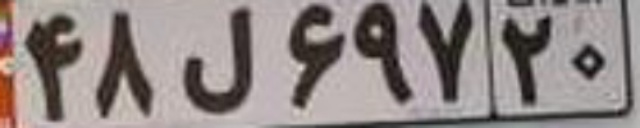0: (566, 42, 612, 82)
2: (500, 13, 550, 106)
4: (20, 13, 80, 121)
6: (280, 3, 345, 106)
7: (418, 0, 473, 103)
8: (93, 11, 153, 119)
9: (354, 2, 413, 102)
lam: (183, 6, 252, 114)
